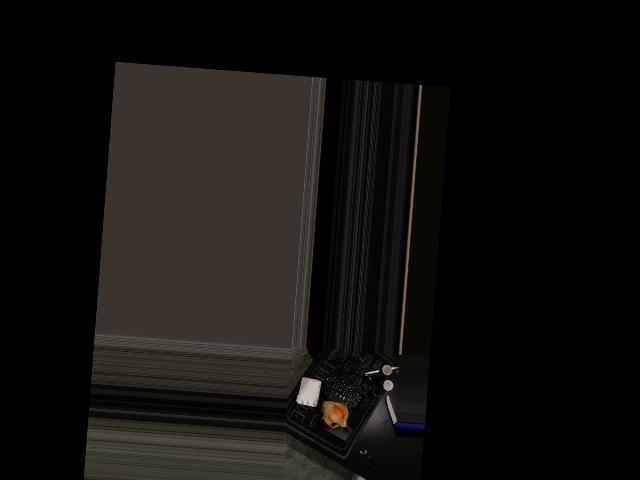onion: (319, 397, 350, 429)
